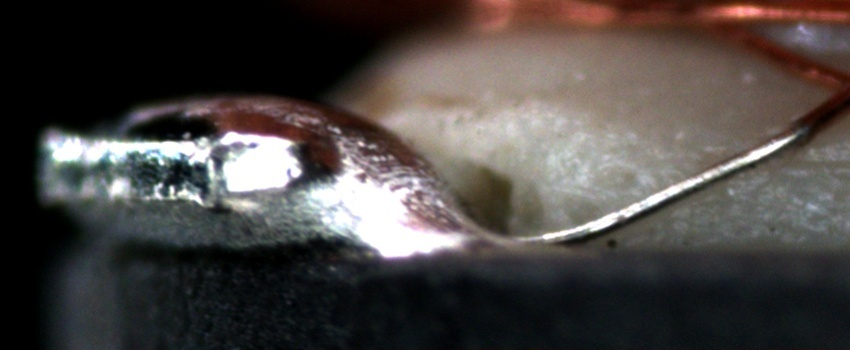DL: (687, 134, 849, 192)
TS: (520, 129, 801, 245)
